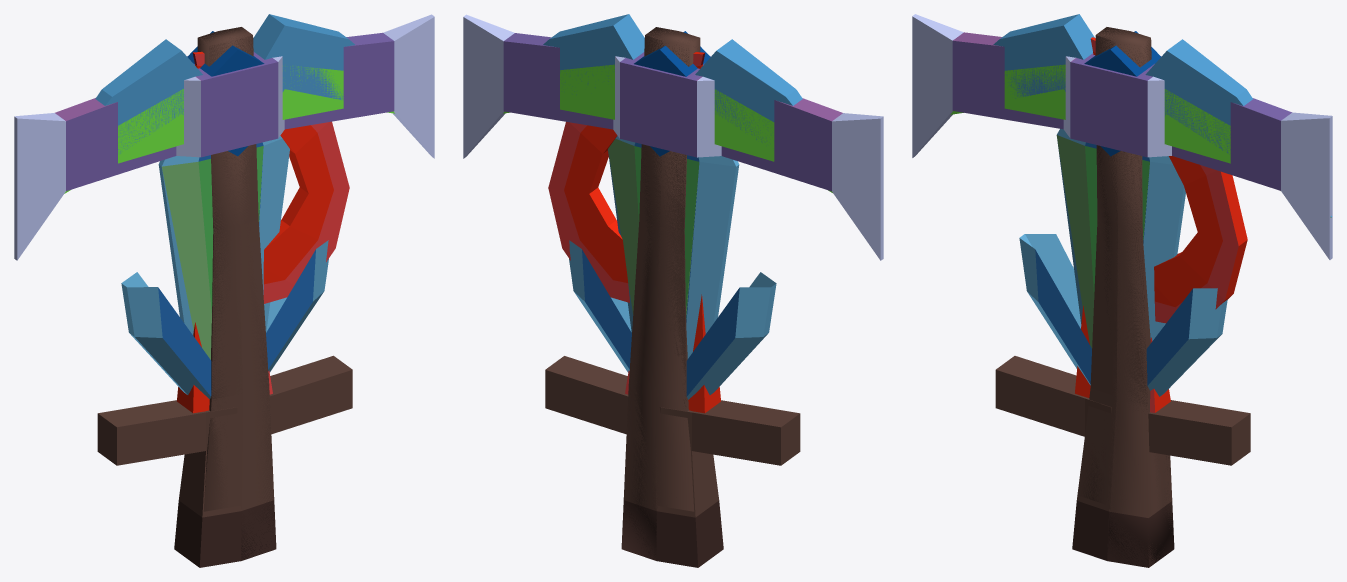
File: Weapon_Kazma_Kilic.fbx
The picture shows the model from 3 angles, left to right: view 1: azimuth 30°, elevation 25°; view 2: azimuth 150°, elevation 25°; view 3: azimuth 330°, elevation 25°; orthographic projection.
Parts seen in each view (by area): view 1: Wepaon_Kazma3, Wepaon_Kilic1, Wepaon_Kazma1, Wepaon_Kilic2, Wepaon_Kazma2, Wepaon_Kilic3; view 2: Wepaon_Kazma3, Wepaon_Kazma1, Wepaon_Kilic1, Wepaon_Kilic2, Wepaon_Kazma2, Wepaon_Kilic3; view 3: Wepaon_Kazma3, Wepaon_Kazma1, Wepaon_Kilic1, Wepaon_Kilic2, Wepaon_Kazma2, Wepaon_Kilic3.
Part boxes in pixels (left/top/right/bottom): Wepaon_Kazma3: left=14, top=14, right=434, bottom=560; Wepaon_Kilic1: left=97, top=51, right=352, bottom=567; Wepaon_Kazma1: left=64, top=27, right=394, bottom=560; Wepaon_Kilic2: left=121, top=136, right=328, bottom=398; Wepaon_Kazma2: left=95, top=14, right=354, bottom=156; Wepaon_Kilic3: left=162, top=146, right=263, bottom=359; Wepaon_Kazma3: left=463, top=14, right=883, bottom=560; Wepaon_Kazma1: left=503, top=27, right=832, bottom=560; Wepaon_Kilic1: left=545, top=52, right=800, bottom=567; Wepaon_Kilic2: left=569, top=136, right=776, bottom=399; Wepaon_Kazma2: left=543, top=14, right=802, bottom=156; Wepaon_Kilic3: left=608, top=138, right=699, bottom=318; Wepaon_Kazma3: left=912, top=14, right=1332, bottom=567; Wepaon_Kazma1: left=950, top=27, right=1331, bottom=566; Wepaon_Kilic1: left=995, top=37, right=1250, bottom=560; Wepaon_Kilic2: left=1019, top=129, right=1227, bottom=396; Wepaon_Kazma2: left=993, top=14, right=1332, bottom=217; Wepaon_Kilic3: left=1056, top=135, right=1149, bottom=347.
Size of the model in its own units: 0.938 by 1.11 by 0.1256.
1 material, 1 textured.
